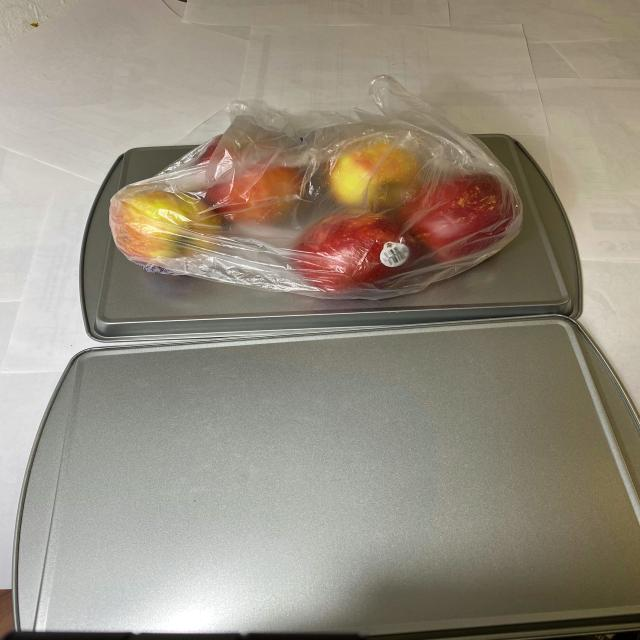apple: (101, 131, 521, 299)
